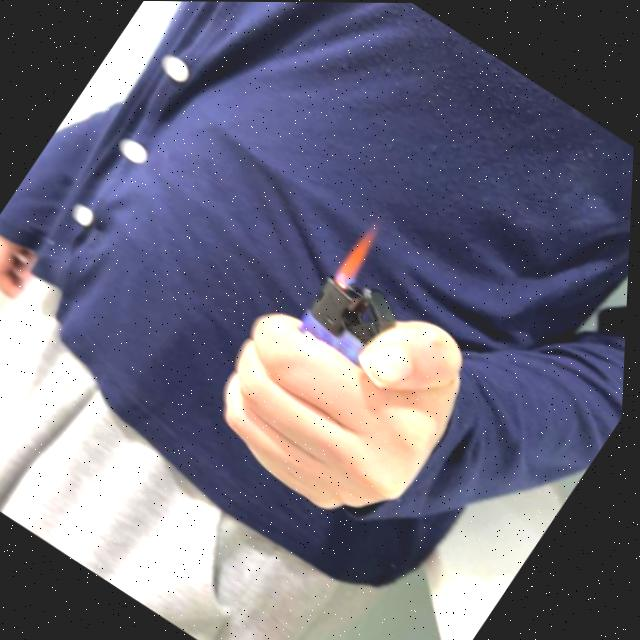Fire: (330, 220, 389, 289)
